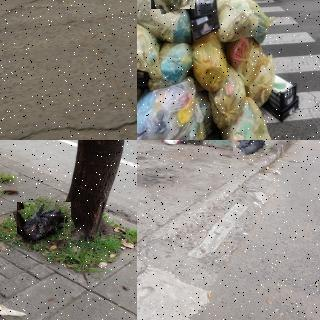Garbage: (137, 78, 197, 140), (15, 198, 74, 244), (221, 94, 275, 140), (137, 0, 192, 44), (216, 0, 268, 43), (210, 66, 245, 129), (190, 36, 228, 92), (137, 18, 161, 78), (231, 140, 265, 158)
